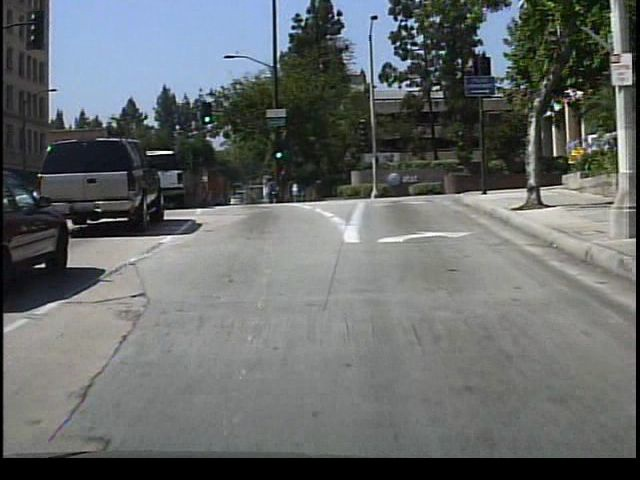person: (261, 171, 282, 206), (289, 177, 304, 204)
